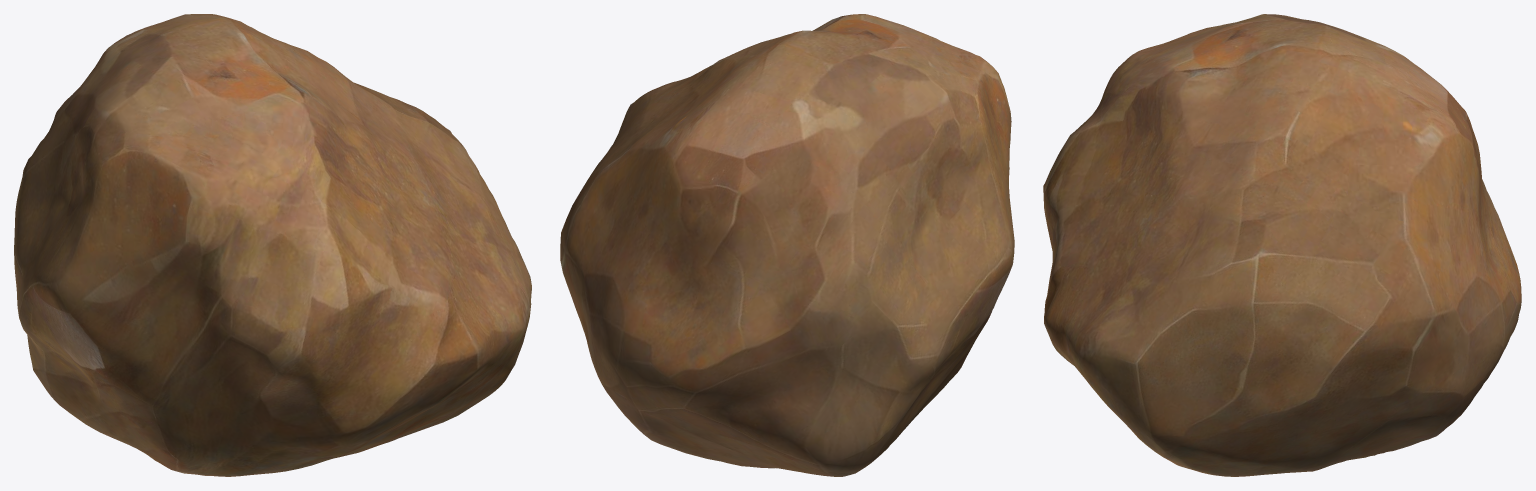
The model's file is Meshy_AI_Rock_Item_0224030036_texture.glb.
3 renders of one model, left to right at view 1: azimuth 30°, elevation 25°; view 2: azimuth 150°, elevation 25°; view 3: azimuth 270°, elevation 25°, orthographic. The views are drawn at different scales.
Bounding box in the file's own units: 1.85 × 1.82 × 1.99.
1 material, 1 textured.
